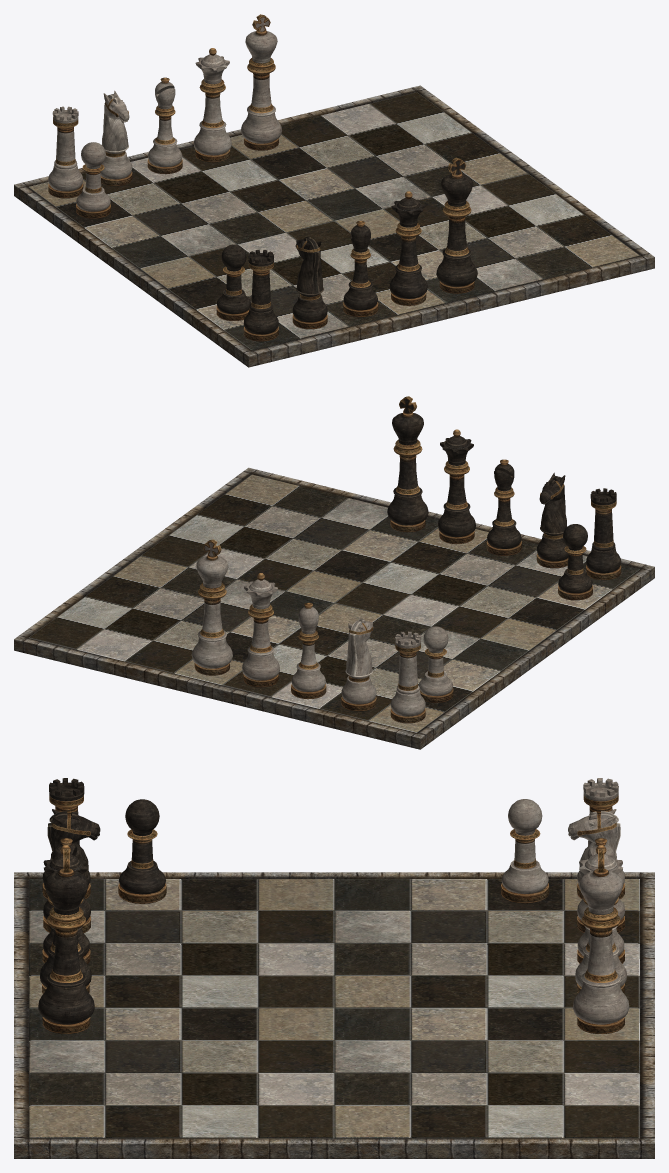
File: port_Basic_Chess_Set.FBX
3 renders of one model, top to bottom at view 1: azimuth 30°, elevation 25°; view 2: azimuth 150°, elevation 25°; view 3: azimuth 270°, elevation 25°, orthographic. The views are drawn at different scales.
Visible parts, largest first — view 1: port_Basic_Chess_Set_Board, port_Basic_Chess_Set_King_Black, port_Basic_Chess_Set_King_White, port_Basic_Chess_Set_Queen_White, port_Basic_Chess_Set_Queen_Black, port_Basic_Chess_Set_Knight_Black, port_Basic_Chess_Set_Knight_White, port_Basic_Chess_Set_Rook_Black, port_Basic_Chess_Set_Rook_White, port_Basic_Chess_Set_Bishop_Black, port_Basic_Chess_Set_Bishop_White, port_Basic_Chess_Set_Pawn_White (+1 smaller); view 2: port_Basic_Chess_Set_Board, port_Basic_Chess_Set_King_Black, port_Basic_Chess_Set_King_White, port_Basic_Chess_Set_Queen_White, port_Basic_Chess_Set_Queen_Black, port_Basic_Chess_Set_Knight_White, port_Basic_Chess_Set_Knight_Black, port_Basic_Chess_Set_Rook_White, port_Basic_Chess_Set_Rook_Black, port_Basic_Chess_Set_Bishop_Black, port_Basic_Chess_Set_Bishop_White, port_Basic_Chess_Set_Pawn_Black (+1 smaller); view 3: port_Basic_Chess_Set_Board, port_Basic_Chess_Set_King_Black, port_Basic_Chess_Set_King_White, port_Basic_Chess_Set_Pawn_Black, port_Basic_Chess_Set_Pawn_White, port_Basic_Chess_Set_Knight_Black, port_Basic_Chess_Set_Knight_White, port_Basic_Chess_Set_Queen_Black, port_Basic_Chess_Set_Queen_White, port_Basic_Chess_Set_Rook_White, port_Basic_Chess_Set_Rook_Black, port_Basic_Chess_Set_Bishop_Black (+1 smaller).
Part boxes in pixels (x1,y1,x2,y2): port_Basic_Chess_Set_Board: [14, 85, 654, 367]; port_Basic_Chess_Set_King_Black: [436, 157, 477, 293]; port_Basic_Chess_Set_King_White: [240, 14, 282, 150]; port_Basic_Chess_Set_Queen_White: [193, 48, 231, 162]; port_Basic_Chess_Set_Queen_Black: [389, 191, 427, 305]; port_Basic_Chess_Set_Knight_Black: [292, 236, 327, 329]; port_Basic_Chess_Set_Knight_White: [100, 90, 132, 186]; port_Basic_Chess_Set_Rook_Black: [243, 249, 278, 341]; port_Basic_Chess_Set_Rook_White: [48, 106, 83, 198]; port_Basic_Chess_Set_Bishop_Black: [343, 221, 378, 317]; port_Basic_Chess_Set_Bishop_White: [147, 77, 182, 174]; port_Basic_Chess_Set_Pawn_White: [76, 142, 110, 218]; port_Basic_Chess_Set_Board: [14, 467, 654, 749]; port_Basic_Chess_Set_King_Black: [387, 396, 428, 532]; port_Basic_Chess_Set_King_White: [191, 539, 232, 675]; port_Basic_Chess_Set_Queen_White: [242, 573, 279, 687]; port_Basic_Chess_Set_Queen_Black: [438, 429, 475, 544]; port_Basic_Chess_Set_Knight_White: [341, 618, 376, 711]; port_Basic_Chess_Set_Knight_Black: [536, 472, 568, 568]; port_Basic_Chess_Set_Rook_White: [390, 631, 425, 723]; port_Basic_Chess_Set_Rook_Black: [586, 488, 621, 580]; port_Basic_Chess_Set_Bishop_Black: [486, 459, 521, 555]; port_Basic_Chess_Set_Bishop_White: [291, 602, 326, 699]; port_Basic_Chess_Set_Pawn_Black: [558, 524, 592, 600]; port_Basic_Chess_Set_Board: [14, 872, 654, 1158]; port_Basic_Chess_Set_King_Black: [38, 848, 94, 1033]; port_Basic_Chess_Set_King_White: [573, 848, 629, 1033]; port_Basic_Chess_Set_Pawn_Black: [118, 799, 166, 903]; port_Basic_Chess_Set_Pawn_White: [501, 799, 549, 903]; port_Basic_Chess_Set_Knight_Black: [43, 809, 100, 933]; port_Basic_Chess_Set_Knight_White: [568, 809, 624, 932]; port_Basic_Chess_Set_Queen_Black: [40, 845, 91, 993]; port_Basic_Chess_Set_Queen_White: [575, 845, 626, 993]; port_Basic_Chess_Set_Rook_White: [577, 778, 624, 899]; port_Basic_Chess_Set_Rook_Black: [42, 778, 90, 899]; port_Basic_Chess_Set_Bishop_Black: [42, 838, 90, 964].
Size of the model in its own units: 644 by 211 by 644.
